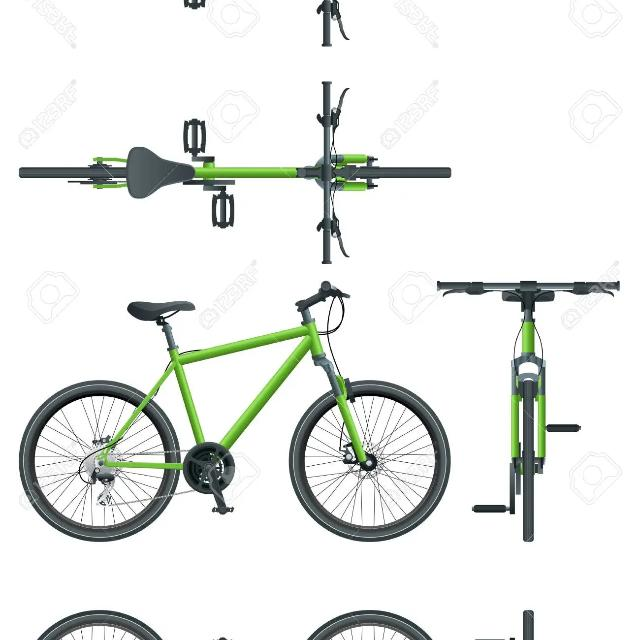obstacle: (19, 277, 469, 559), (3, 76, 465, 272), (444, 253, 620, 555), (3, 0, 465, 51), (19, 593, 469, 640), (444, 597, 620, 640)
